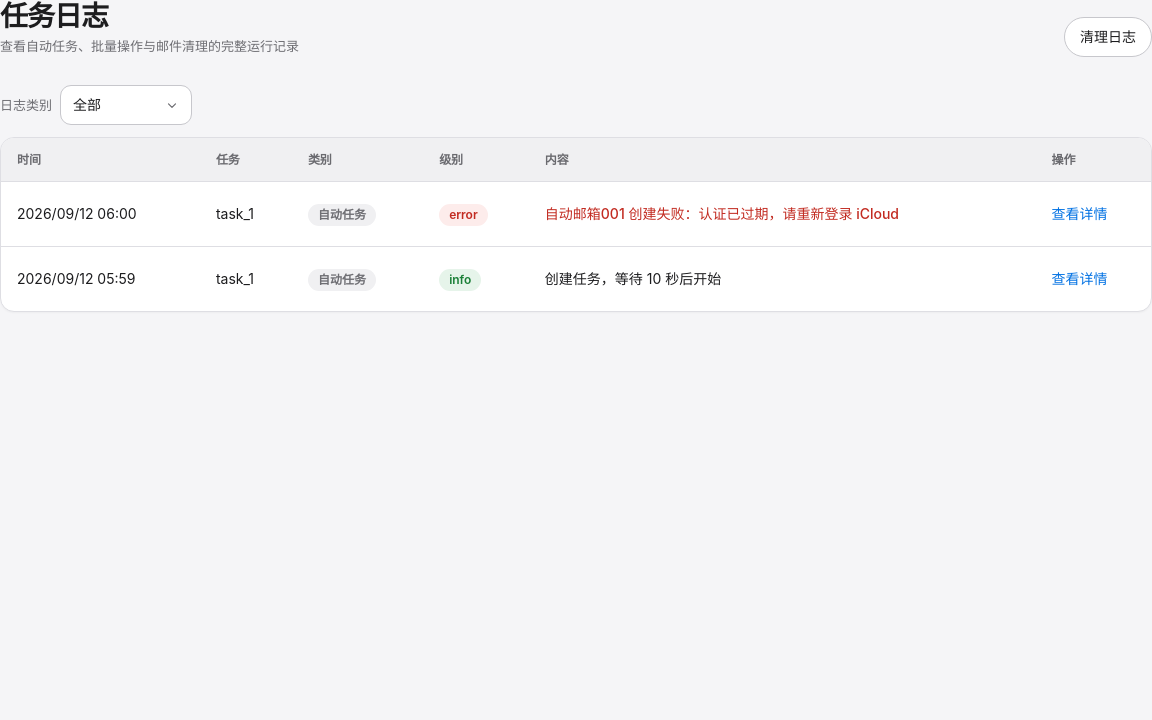
Test case: LogsPage › 失败日志可打开详情并突出显示失败原因
Expected: the text "自动邮箱001 创建失败：认证已过期，请重新登录 iCloud" is shown, [529, 182, 1036, 247]
Click the button with aria-label "查看失败日志详情" at [1080, 214], box [1052, 194, 1108, 234]
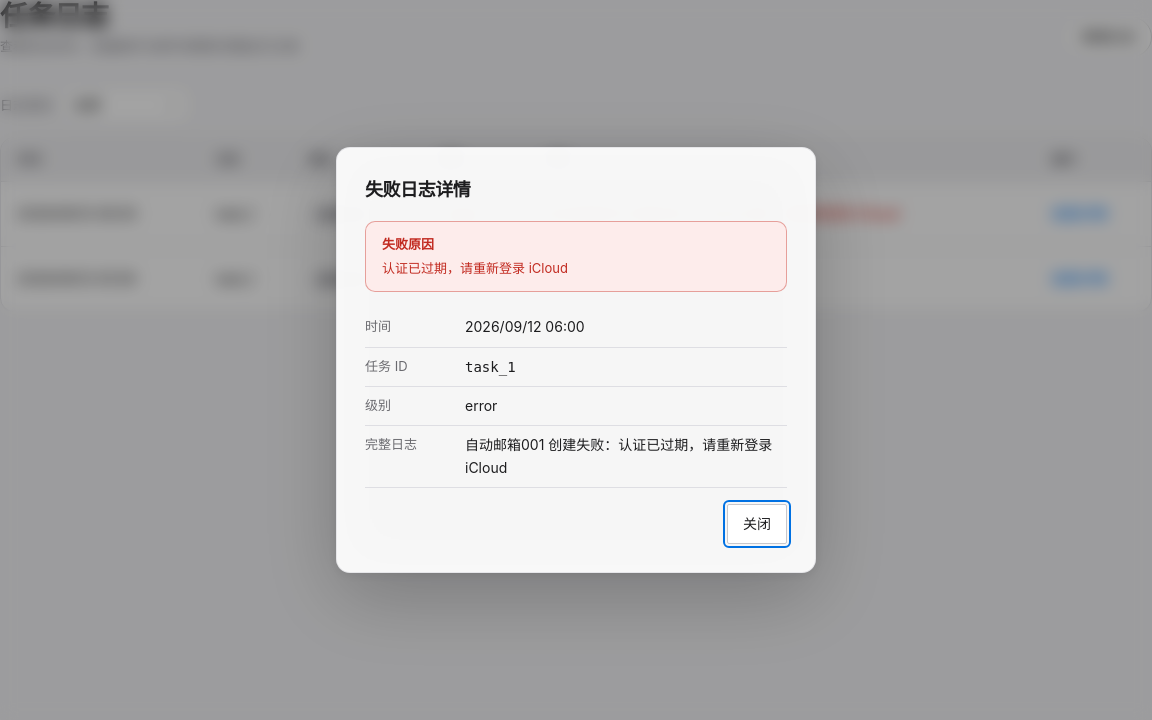
Now the dialog "失败日志详情" shows "失败原因", box [382, 236, 434, 252]
Now the dialog "失败日志详情" shows "认证已过期，请重新登录 iCloud", box [382, 260, 568, 276]
Now the dialog "失败日志详情" shows "task_1", box [465, 359, 516, 375]
